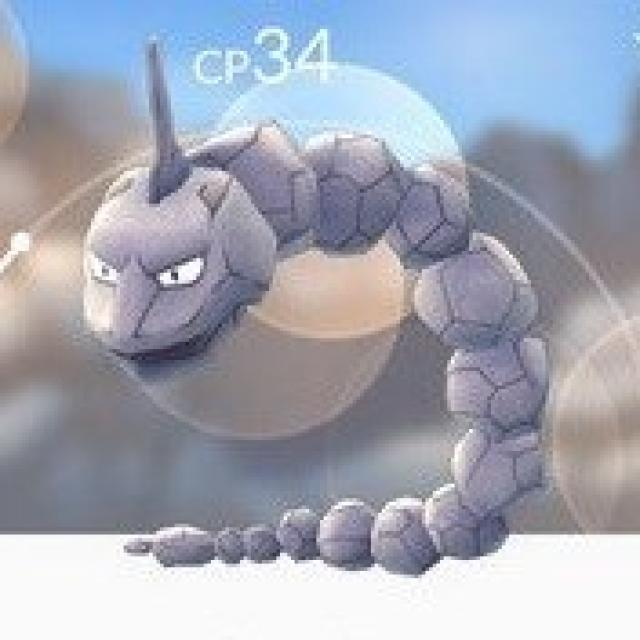Onix: (76, 114, 545, 527)
